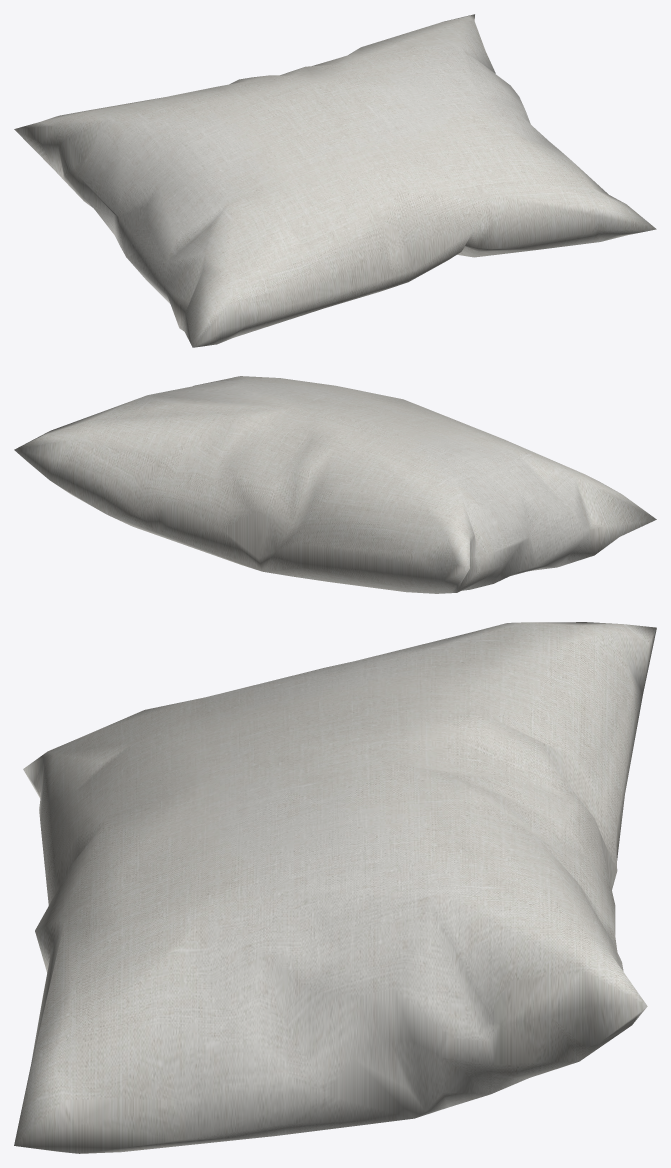
File: Pillow 1.FBX
The picture shows the model from 3 angles, top to bottom: view 1: azimuth 30°, elevation 25°; view 2: azimuth 150°, elevation 25°; view 3: azimuth 270°, elevation 25°; orthographic projection. The views are drawn at different scales.
Parts seen in each view (by area): view 1: Pillow 1; view 2: Pillow 1; view 3: Pillow 1.
Part boxes in pixels (x1=…): Pillow 1: x1=14, y1=14, x2=656, y2=347; Pillow 1: x1=14, y1=376, x2=656, y2=593; Pillow 1: x1=14, y1=622, x2=656, y2=1153.
Size of the model in its own units: 65.73 by 19.84 by 45.67.
1 material, 1 textured.
